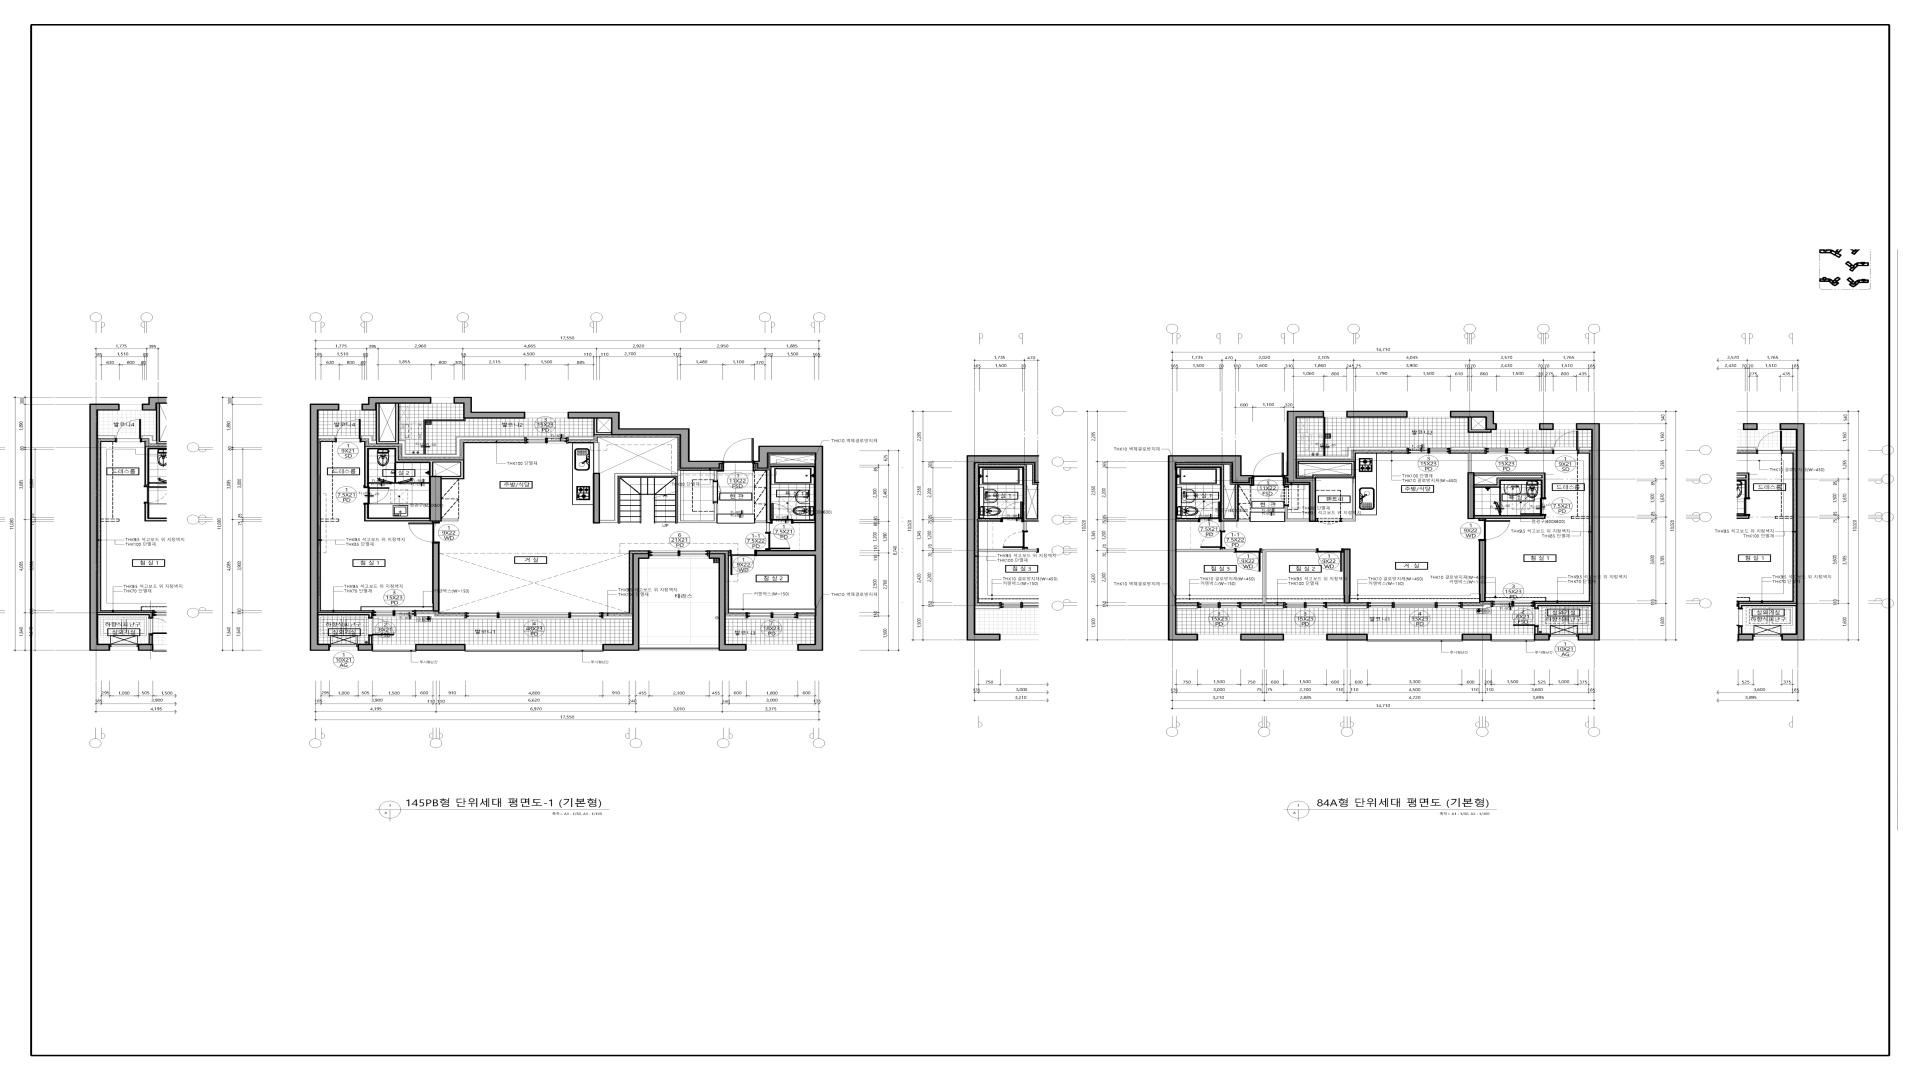door: (723, 438, 754, 472), (1253, 453, 1284, 486), (1478, 519, 1510, 541), (408, 522, 440, 544), (729, 550, 756, 575), (1235, 548, 1262, 572), (1317, 548, 1344, 572), (335, 419, 362, 443), (1553, 431, 1579, 454), (363, 486, 390, 504), (1520, 497, 1546, 515), (771, 503, 793, 524), (1200, 531, 1225, 549), (765, 532, 790, 550), (1198, 502, 1220, 522), (1316, 518, 1341, 525)
wall: (1168, 455, 1253, 641), (754, 446, 823, 651), (568, 412, 723, 469), (361, 404, 525, 457), (310, 404, 339, 651), (600, 470, 718, 523), (1576, 423, 1600, 641), (1176, 464, 1250, 531), (602, 553, 649, 651), (1284, 411, 1324, 522), (364, 446, 464, 486), (709, 553, 747, 651), (1298, 461, 1356, 521), (1262, 549, 1317, 603), (1475, 473, 1546, 497), (454, 397, 525, 419), (1297, 447, 1407, 459), (364, 505, 430, 521), (755, 470, 771, 532), (362, 397, 431, 411), (1450, 411, 1497, 430), (430, 476, 442, 522), (432, 544, 440, 612), (1346, 411, 1408, 418), (1343, 548, 1351, 602), (1479, 541, 1486, 601), (640, 645, 719, 650), (1468, 418, 1492, 433), (1285, 506, 1309, 521), (415, 644, 466, 651), (593, 473, 600, 524), (1468, 472, 1475, 519), (1240, 634, 1284, 641), (416, 613, 465, 619), (1326, 634, 1368, 641), (593, 419, 611, 435), (1534, 603, 1591, 608), (1475, 515, 1546, 519), (319, 612, 373, 617), (1462, 634, 1492, 641), (593, 442, 599, 473), (1176, 549, 1235, 552), (1462, 604, 1491, 609), (1241, 606, 1284, 609), (1327, 606, 1367, 609), (1534, 634, 1550, 641), (358, 644, 373, 651), (1539, 423, 1554, 430), (1451, 447, 1485, 450), (770, 464, 814, 466), (1176, 518, 1198, 522), (603, 616, 632, 619), (568, 437, 594, 440), (1468, 453, 1472, 472), (1528, 447, 1553, 450), (793, 520, 815, 523), (319, 435, 335, 439), (1176, 606, 1197, 609), (726, 616, 746, 619), (798, 616, 815, 619), (368, 636, 373, 644), (1579, 447, 1591, 450), (1534, 627, 1539, 634), (442, 519, 458, 521), (714, 471, 717, 481), (1285, 485, 1288, 486)
window: (465, 612, 603, 619), (466, 645, 602, 652), (1368, 634, 1462, 642), (1367, 602, 1462, 608), (649, 550, 709, 558), (746, 612, 798, 619), (525, 437, 568, 444), (373, 610, 416, 617), (373, 645, 415, 652), (1492, 634, 1534, 641), (1197, 602, 1241, 608), (1407, 448, 1451, 454), (525, 412, 568, 418), (1284, 602, 1327, 608), (1491, 601, 1534, 607), (1485, 448, 1528, 454), (1408, 411, 1450, 417), (1198, 634, 1240, 640), (1284, 634, 1326, 640), (1497, 424, 1539, 429), (330, 644, 358, 650), (1550, 634, 1578, 640), (339, 404, 361, 410), (431, 397, 453, 403), (1324, 411, 1346, 417), (1554, 424, 1576, 429)
